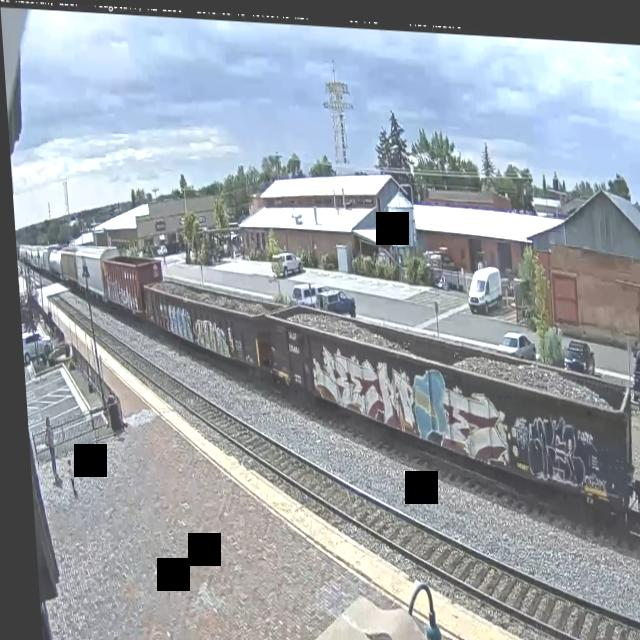gondola: (252, 290, 639, 528), (136, 270, 276, 378), (633, 376, 640, 565)
